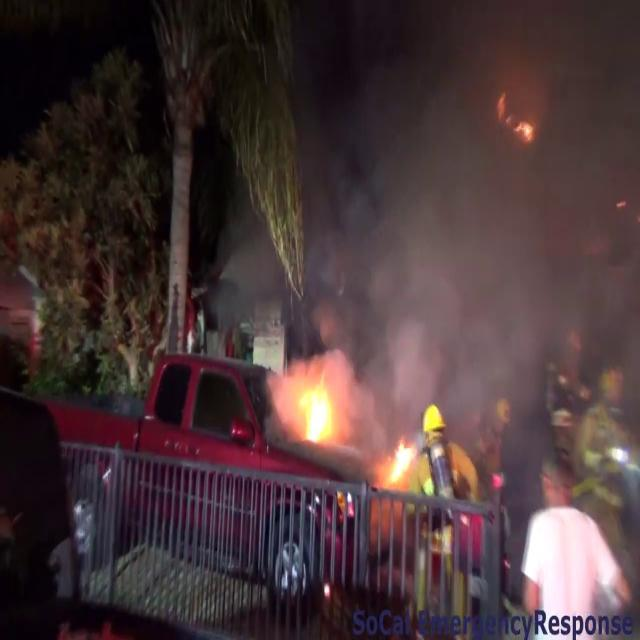Fire: (280, 358, 346, 454), (380, 434, 428, 499)
Smoke: (294, 0, 640, 374)
